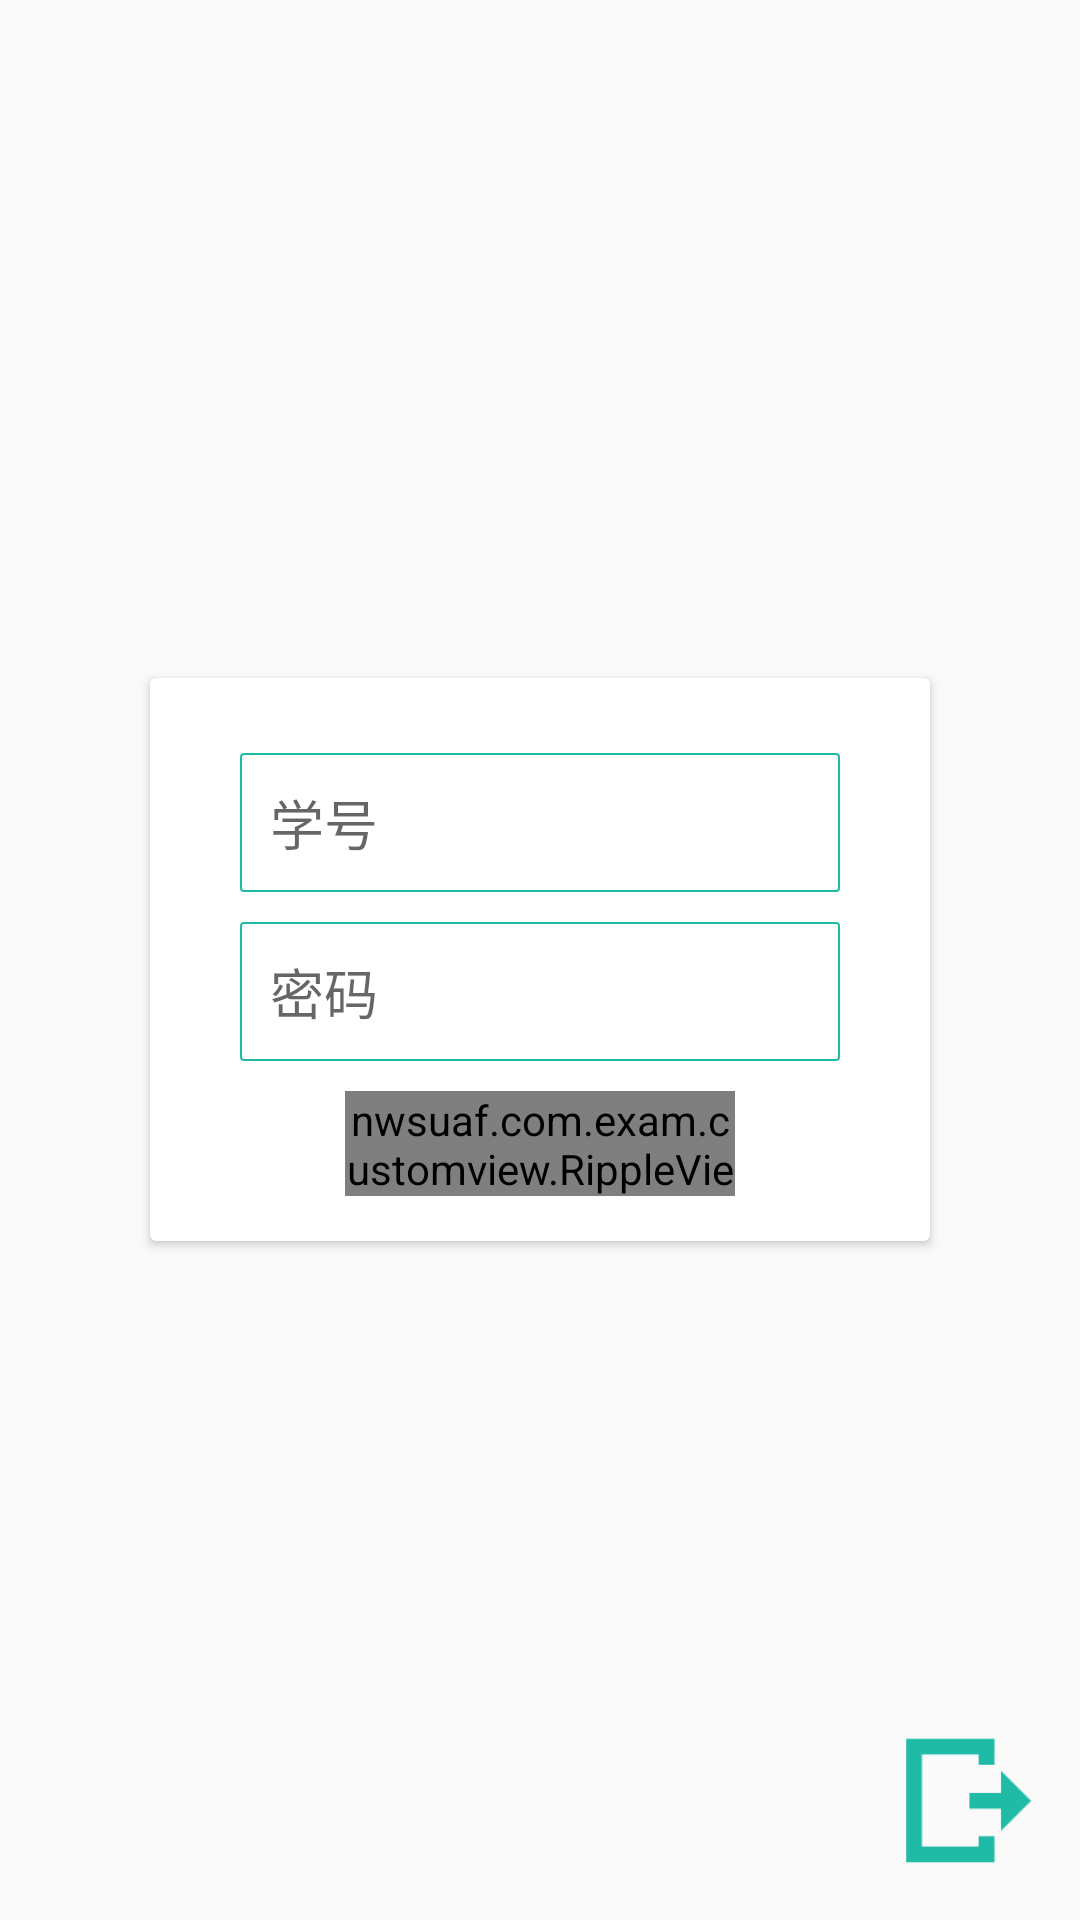

Locate icon controls on the screen. Image size 1080px×1920px, boxes as rect(x1, y1, x2, y2).
quickentry: rect(906, 1738, 1032, 1863)
